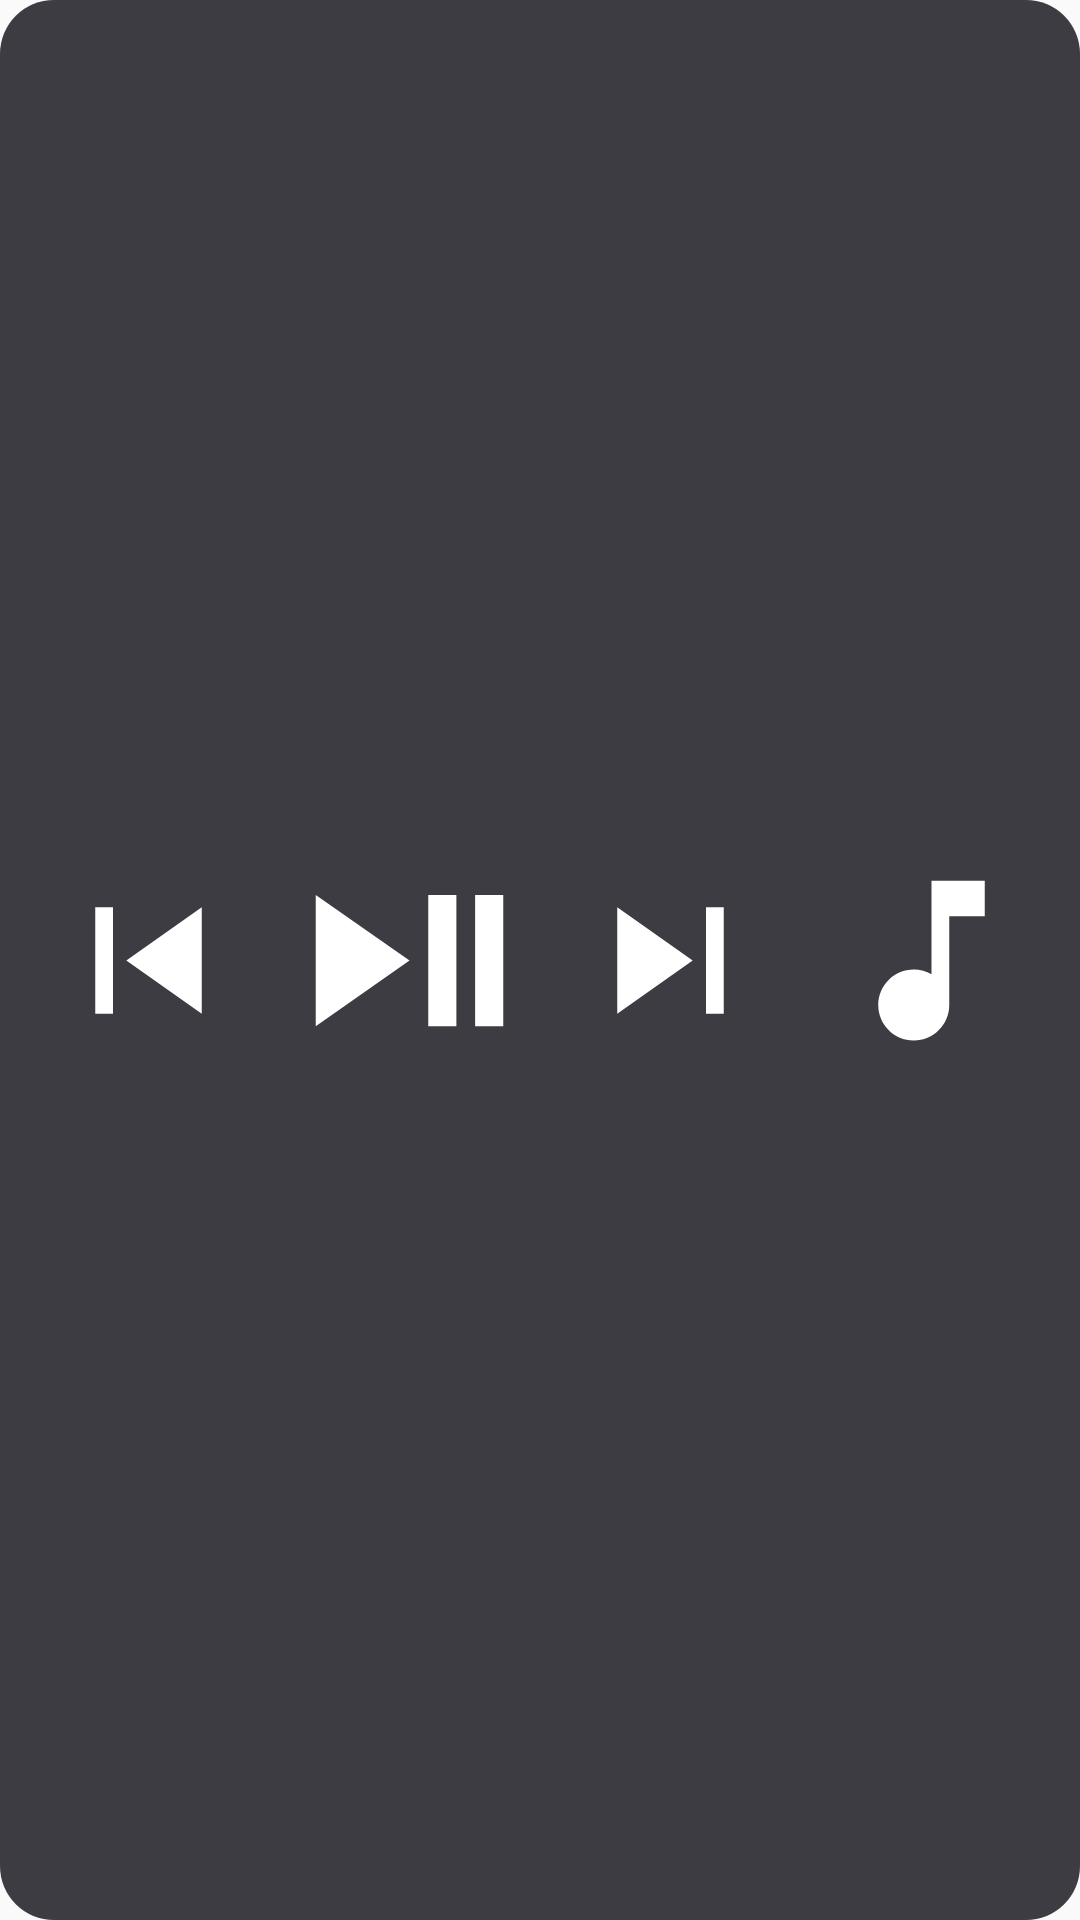

Where icons sit on this 1080w x 1920h app screen, as (x1, y1, x2, y2):
Пауза или воспроизведение: (315, 895, 504, 1027)
Предыдущий: (95, 907, 202, 1014)
Следующий: (617, 907, 724, 1014)
